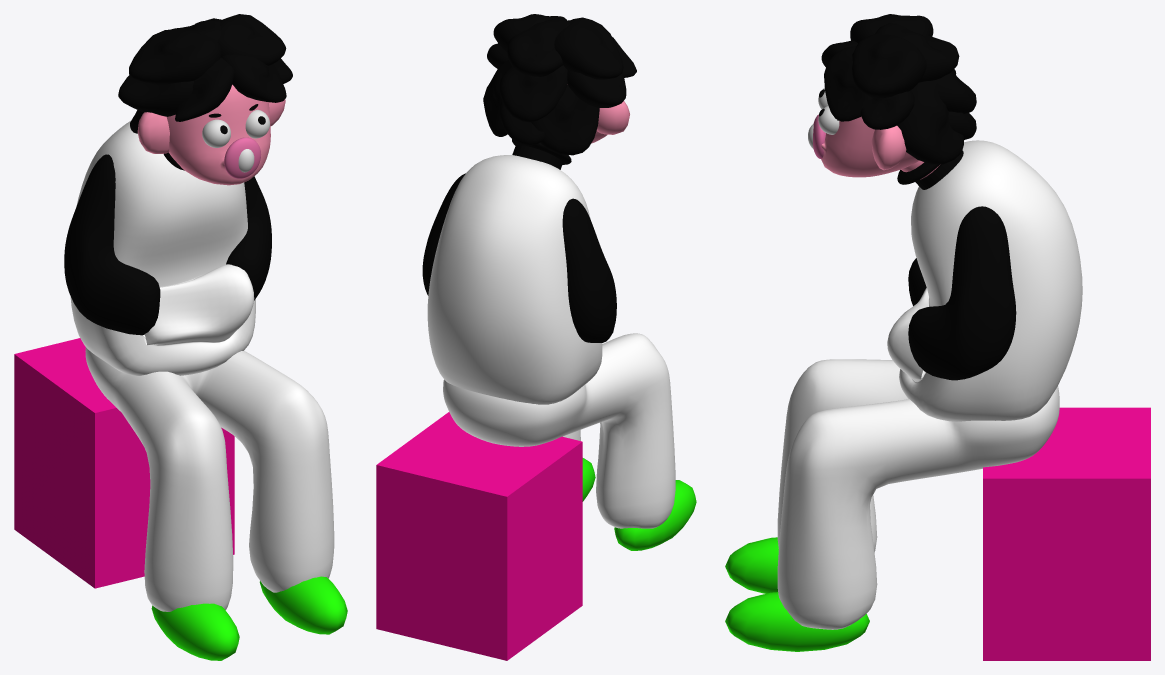
Rendered from worker_agree.glb.
3 renders of one model, left to right at view 1: azimuth 30°, elevation 25°; view 2: azimuth 150°, elevation 25°; view 3: azimuth 270°, elevation 25°, orthographic. The views are drawn at different scales.
Visible parts, largest first — view 1: pCube10, pCube9, 1body1, 3-2body, pCube1, pSphere9.006, pCube13, pCube12, pSphere9.005, pSphere9.007, pSphere9.003, pSphere9.004 (+4 smaller); view 2: pCube9, 1body1, pCube10, 3-2body, pSphere9.006, pSphere9.010, pSphere9.009, pSphere9.008, pCube13, pSphere9.007, pSphere9.011, pSphere9.012 (+3 smaller); view 3: pCube9, pCube10, 1body1, 3-2body, pCube12, pCube1, pSphere9.005, pSphere9.011, pCube13, pSphere9.003, pSphere9.008, pSphere9.002 (+2 smaller).
Boxes of the visible parts, x1,y1,x2,y2 form: pCube10: (85, 334, 334, 611); pCube9: (14, 338, 234, 588); 1body1: (70, 121, 255, 375); 3-2body: (64, 154, 271, 335); pCube1: (137, 84, 285, 185); pSphere9.006: (129, 29, 221, 85); pCube13: (151, 603, 239, 660); pCube12: (259, 576, 347, 634); pSphere9.005: (217, 14, 286, 65); pSphere9.007: (118, 75, 193, 116); pSphere9.003: (221, 54, 286, 102); pSphere9.004: (175, 57, 234, 121); pCube9: (376, 412, 582, 660); 1body1: (427, 155, 602, 404); pCube10: (443, 333, 675, 528); 3-2body: (422, 173, 616, 342); pSphere9.006: (554, 17, 623, 79); pSphere9.010: (531, 85, 599, 155); pSphere9.009: (500, 65, 567, 122); pSphere9.008: (507, 18, 569, 76); pCube13: (614, 480, 696, 550); pSphere9.007: (567, 70, 626, 107); pSphere9.011: (483, 60, 511, 136); pSphere9.012: (500, 101, 544, 145); pCube9: (983, 407, 1150, 660); pCube10: (777, 359, 1059, 629); 1body1: (887, 140, 1082, 421); 3-2body: (908, 206, 1016, 380); pCube12: (725, 592, 869, 651); pCube1: (821, 116, 939, 179); pSphere9.005: (852, 33, 926, 98); pSphere9.011: (897, 80, 963, 164); pCube13: (725, 537, 778, 593); pSphere9.003: (824, 46, 872, 121); pSphere9.008: (875, 23, 959, 82); pSphere9.002: (860, 90, 914, 129).
Size of the model in its own units: 0.4183 by 1.18 by 0.7618.
